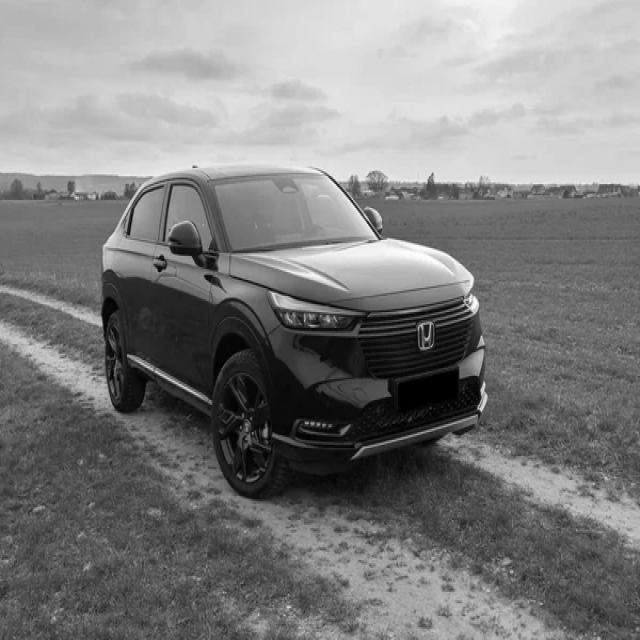Car: (101, 168, 488, 497)
